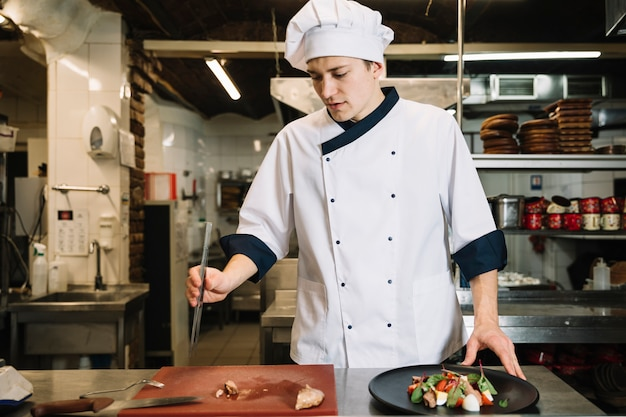knife: (29, 396, 199, 415)
